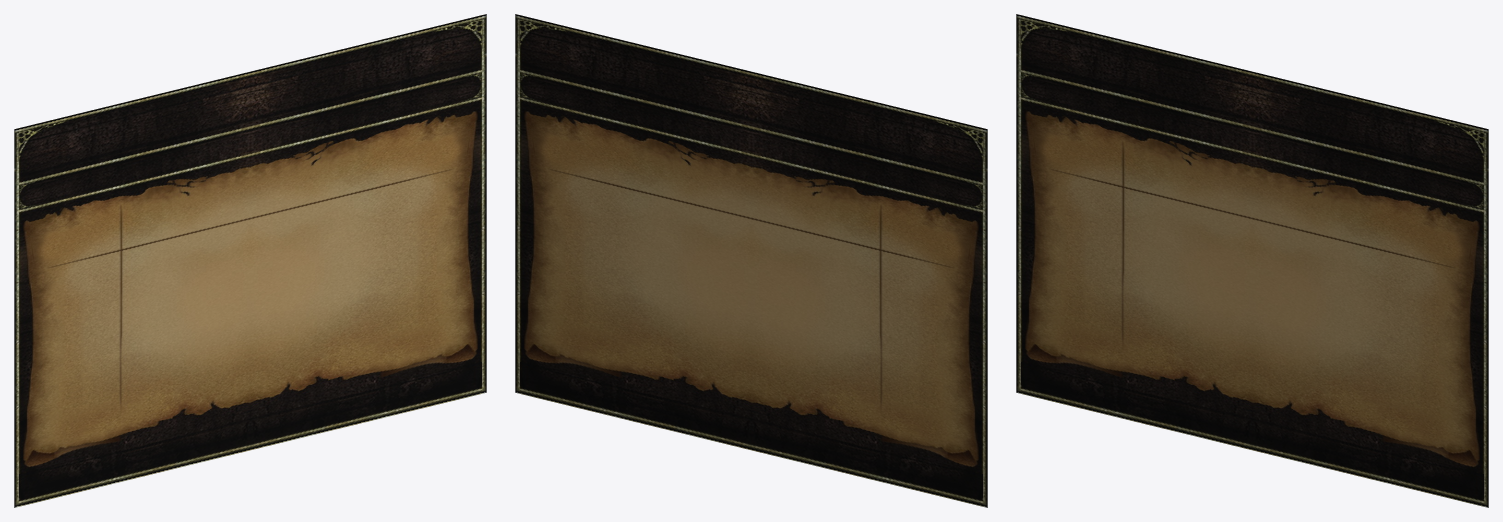
File: pir_m_gui_can_reportPanel.fbx
3 views of the same model, side by side, from view 1: azimuth 30°, elevation 25°; view 2: azimuth 150°, elevation 25°; view 3: azimuth 330°, elevation 25° (orthographic).
Parts seen in each view (by area): view 1: reportPanel; view 2: reportPanel; view 3: reportPanel.
Part boxes in pixels (x1,y1,x2,y2): reportPanel: (14,14,486,507); reportPanel: (515,14,987,507); reportPanel: (1016,14,1488,507).
Bounding box in the file's own units: 545 × 418 × 6.81e-05.
Materials: 1 (1 with a texture image).
